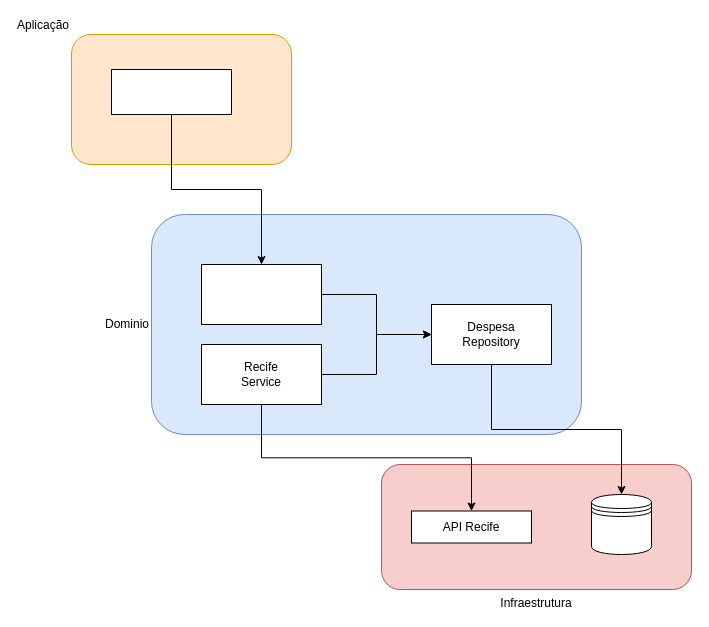
This 709x627 diagram has some shape labels left out. Here are the shapes that lost their labels. From the top down, the centre of each, then its label:
At pixel 171 91: "Despesa Controller".
At pixel 261 294: "Despesa Service".
At pixel 621 524: "H2".
